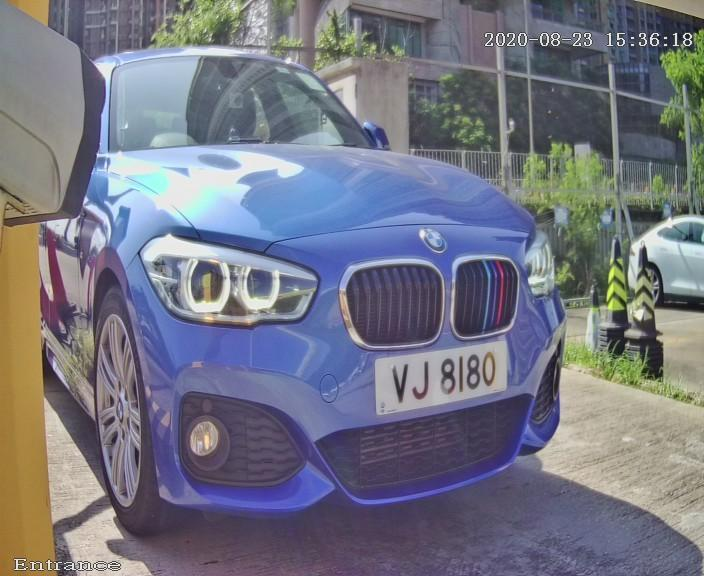Car: (19, 8, 617, 574)
License Plate: (344, 308, 527, 435)
